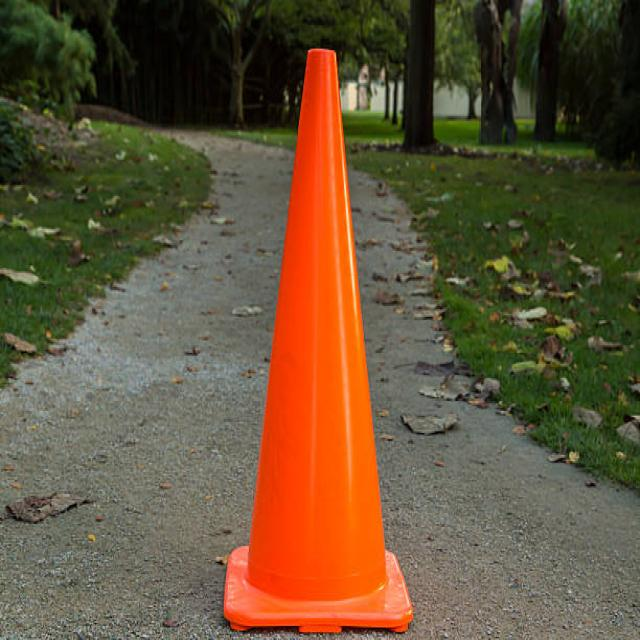Traffic Cone: (212, 10, 434, 640)
